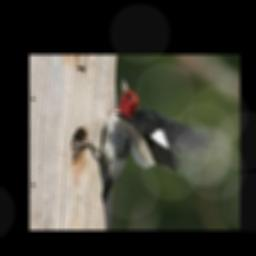Woodpecker: (72, 78, 211, 204)
